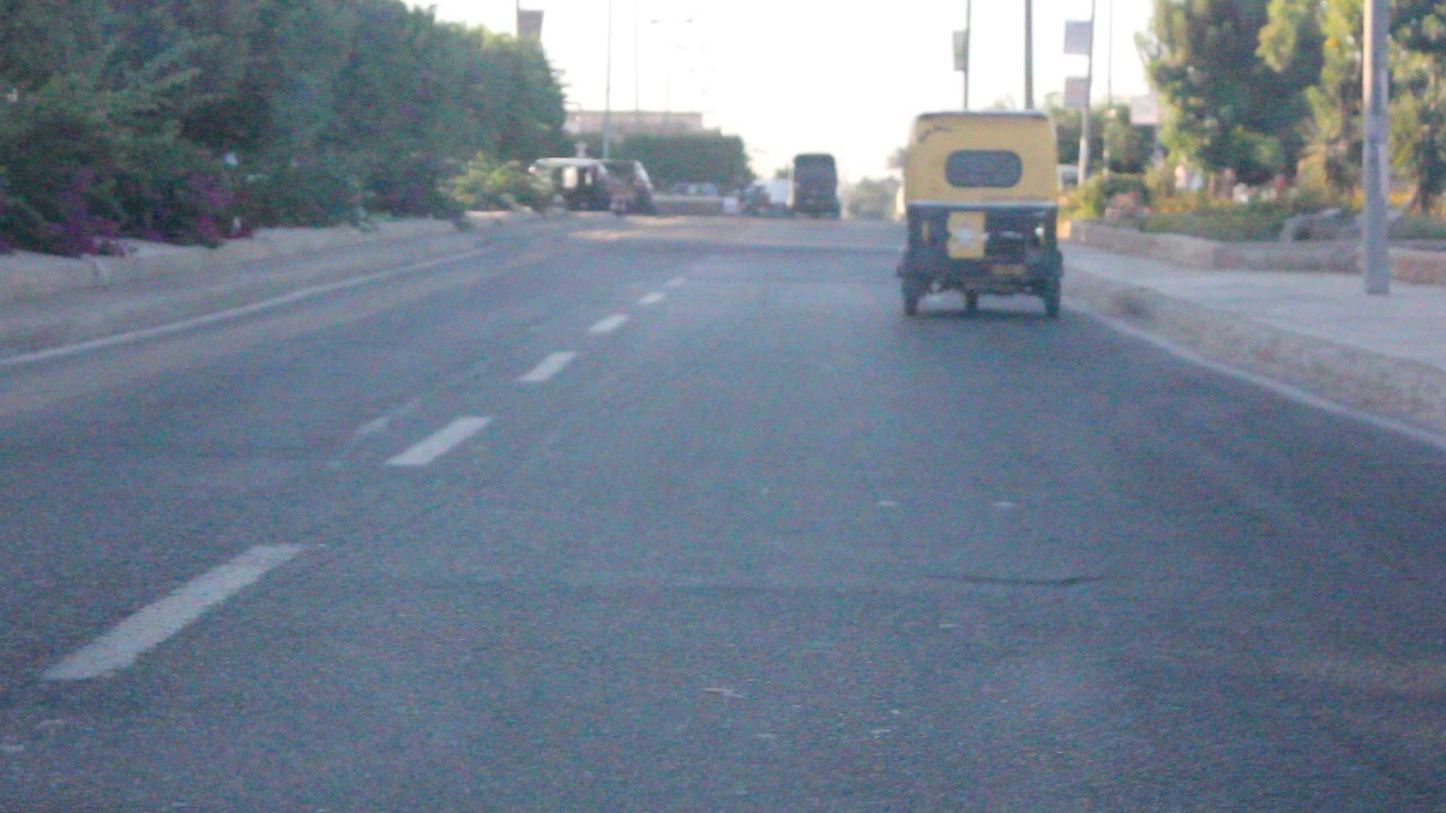Bump: (565, 237, 917, 258)
